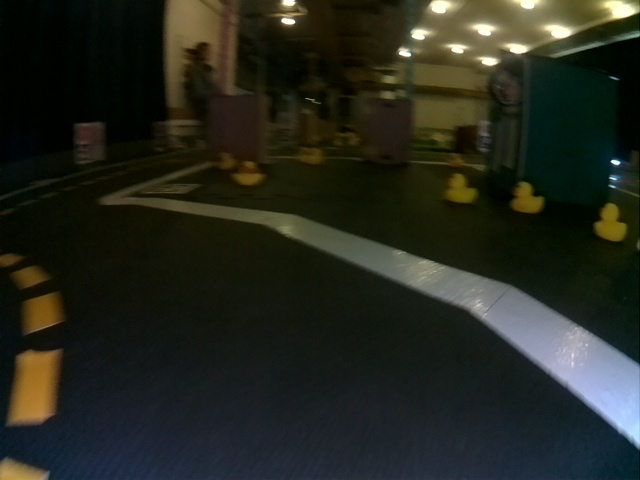Duckie: (594, 203, 625, 242), (510, 182, 544, 214), (446, 174, 475, 202), (233, 162, 266, 186), (218, 153, 234, 168), (307, 148, 321, 163)
QR code: (140, 183, 199, 194)
